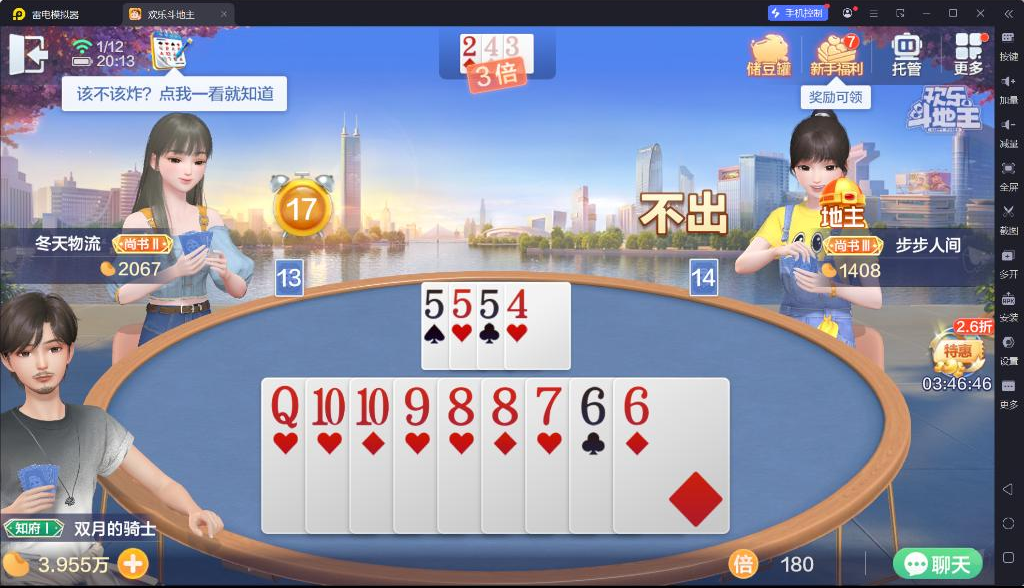Q: (266, 381, 303, 430)
eight: (443, 381, 478, 427), (488, 382, 521, 428)
five: (422, 286, 446, 320), (450, 287, 474, 321), (479, 285, 502, 320)
four: (505, 285, 530, 321), (483, 35, 500, 58)
nine: (398, 381, 434, 429)
seven: (531, 383, 564, 426)
six: (620, 383, 654, 428), (576, 383, 608, 427)
ten: (310, 382, 348, 430), (353, 382, 390, 429)
three: (504, 35, 520, 57)
two: (461, 35, 479, 58)
